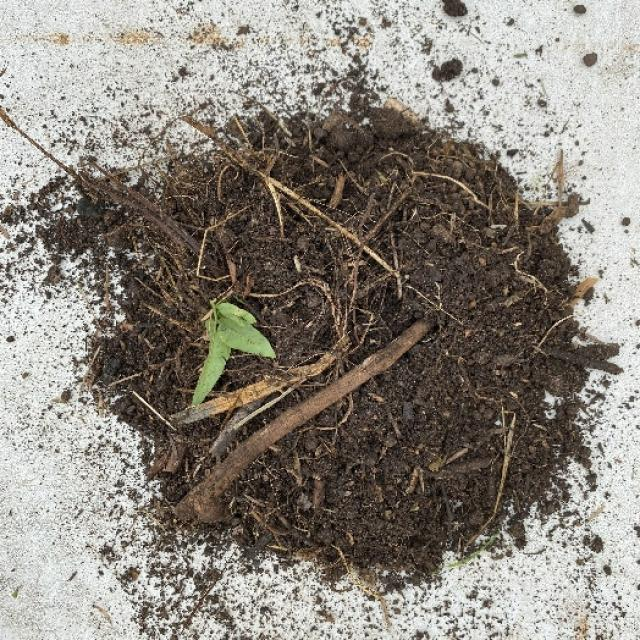organik: (110, 124, 544, 557)
